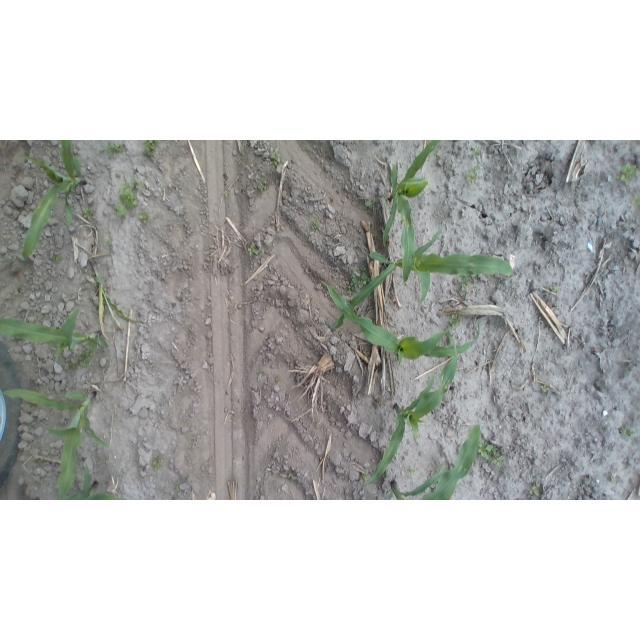Maize: (325, 227, 521, 338), (322, 253, 486, 371), (360, 330, 473, 490), (0, 383, 112, 498), (16, 140, 88, 262), (378, 141, 442, 275), (381, 424, 484, 500), (0, 305, 108, 366), (91, 266, 138, 330), (74, 465, 123, 500)
Weeds: (115, 179, 141, 217), (478, 441, 506, 469), (65, 349, 96, 371), (348, 267, 372, 294), (618, 162, 639, 187), (140, 140, 160, 160), (465, 166, 482, 187), (104, 141, 126, 157), (528, 481, 545, 498), (448, 313, 465, 329), (149, 456, 164, 473), (458, 275, 472, 293), (364, 196, 382, 210), (621, 424, 636, 440), (443, 334, 457, 351), (82, 207, 98, 221), (247, 243, 260, 257), (269, 153, 281, 168), (311, 217, 322, 233), (257, 180, 270, 193), (285, 471, 300, 482), (139, 212, 151, 225), (51, 253, 63, 265), (407, 466, 418, 478), (103, 238, 113, 251), (539, 383, 552, 393), (550, 285, 561, 296), (471, 147, 483, 157), (630, 197, 638, 211), (360, 472, 370, 483), (418, 194, 428, 205), (273, 375, 283, 385), (173, 485, 183, 493), (222, 189, 231, 197), (547, 219, 554, 228), (611, 477, 618, 485)
